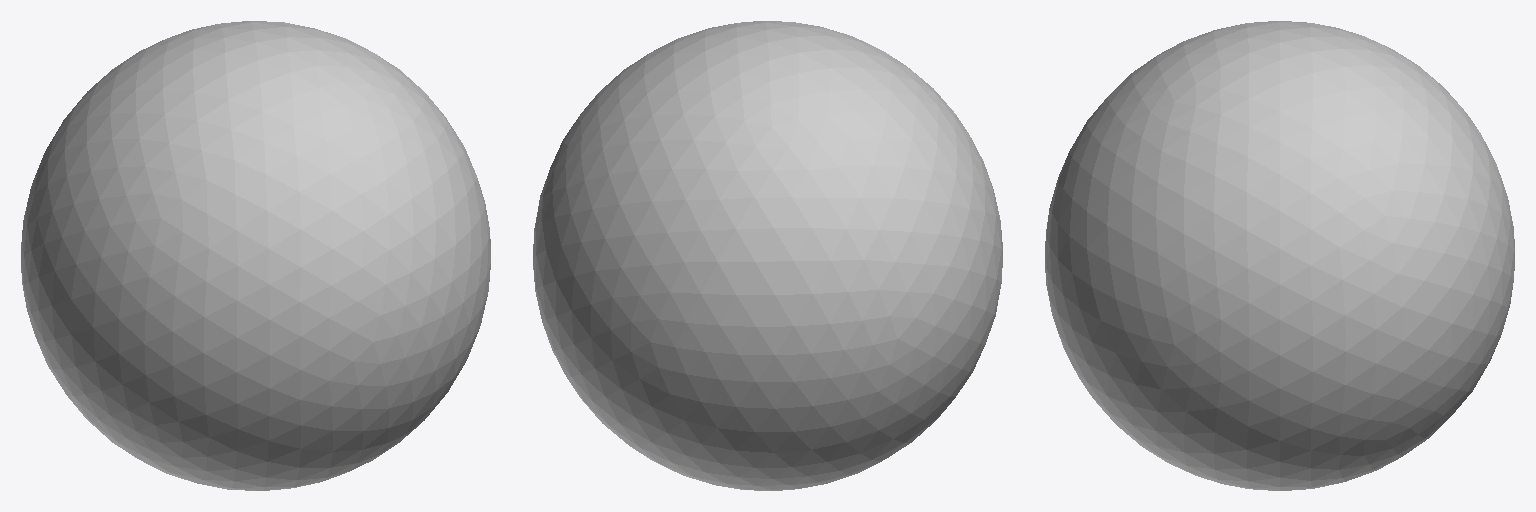
The model's file is debug_model.obj.
3 renders of one model, left to right at view 1: azimuth 30°, elevation 25°; view 2: azimuth 150°, elevation 25°; view 3: azimuth 270°, elevation 25°, orthographic.
Visible parts, largest first — view 1: Icosphere; view 2: Icosphere; view 3: Icosphere.
Boxes of the visible parts, x1=… form: Icosphere: x1=21, y1=21, x2=490, y2=490; Icosphere: x1=533, y1=21, x2=1002, y2=490; Icosphere: x1=1045, y1=21, x2=1514, y2=490.
Size of the model in its own units: 2 by 2 by 2.